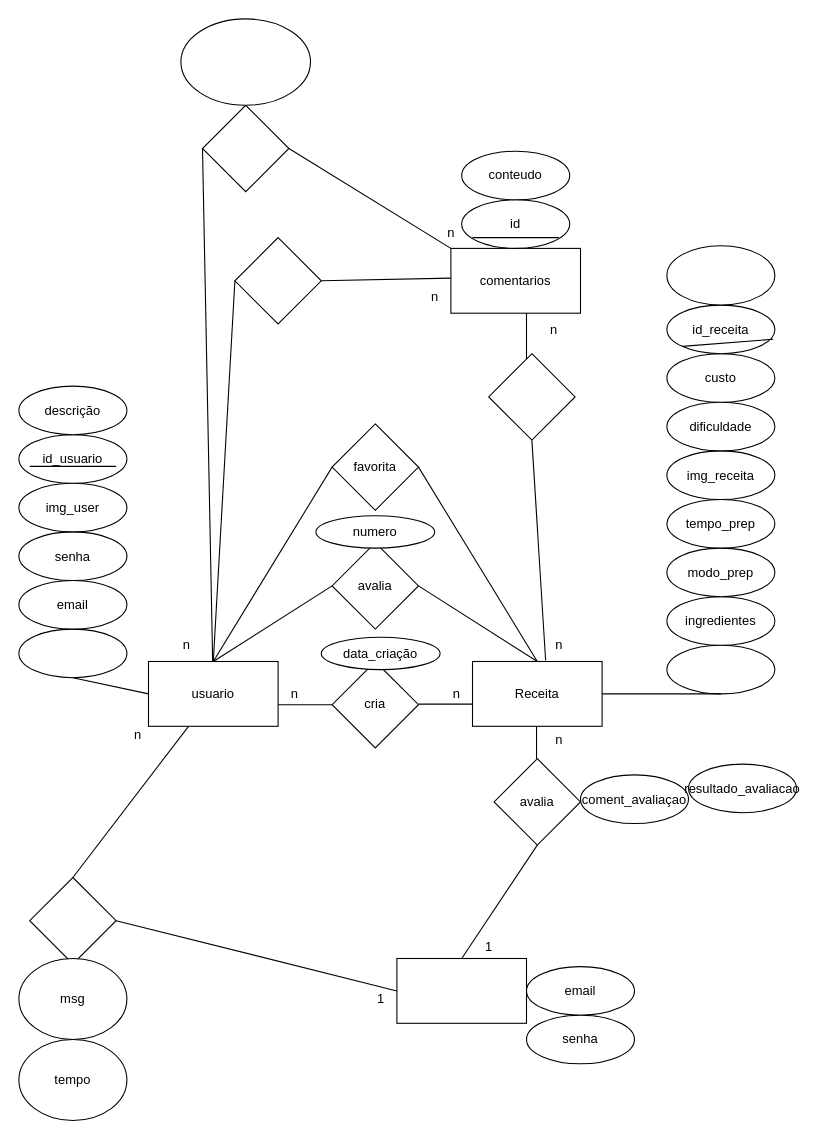
The diagram is 819 pixels wide and 1139 high, and some of its shapes have lost their labels. Here are the shapes that lost their labels. From the top down, the box of each, then its label:
(180, 18, 310, 105): motivo
(201, 104, 289, 192): denuncia
(234, 237, 321, 324): faz
(666, 245, 775, 305): status_avaliaçao
(488, 353, 575, 440): tem
(18, 628, 127, 678): nome_usuario
(666, 644, 775, 694): nome_receita
(29, 876, 116, 964): bani
(396, 957, 526, 1023): Admin
